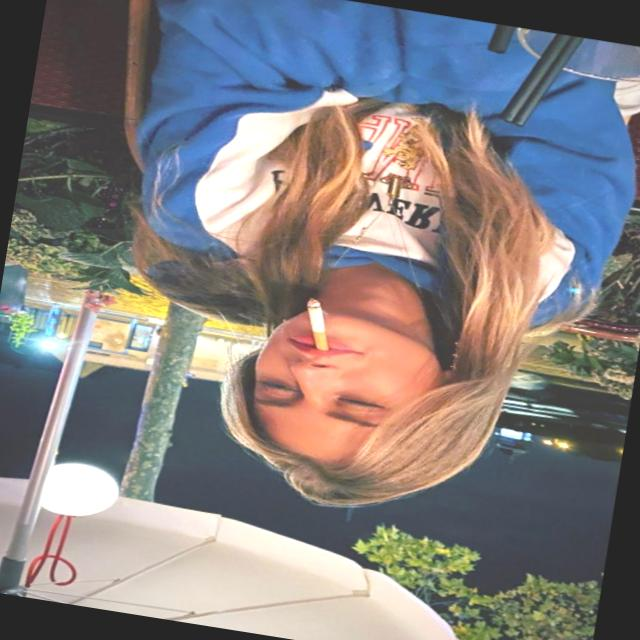smoke: (264, 277, 370, 365)
